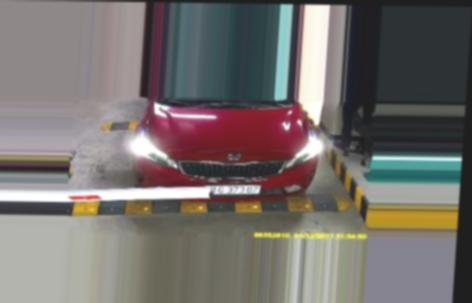License_Plate: (206, 182, 259, 196)
